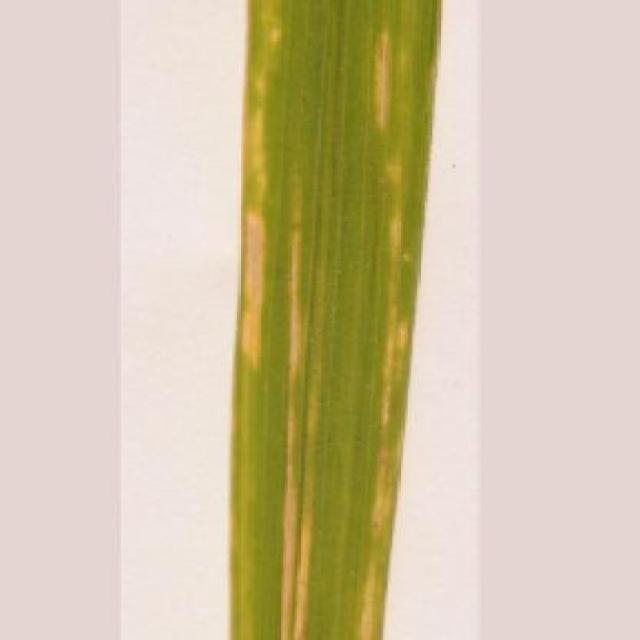Brown_Spot: (231, 0, 443, 640)
